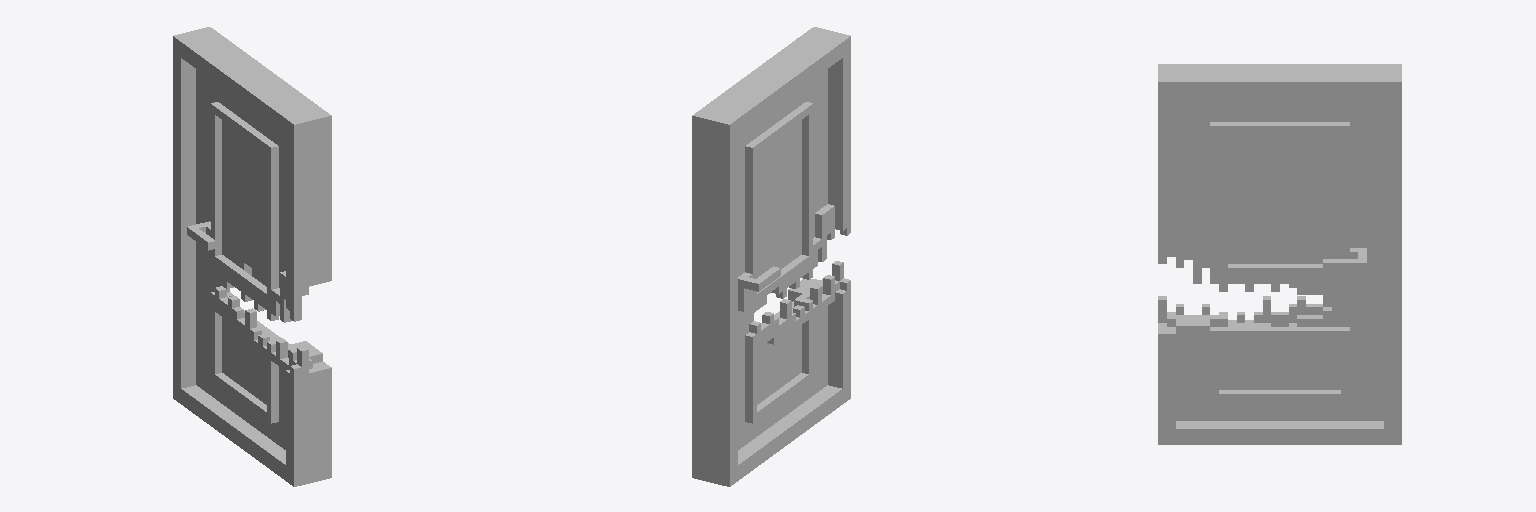
Rendered from DOOR MONSTER (DUR).obj.
The picture shows the model from 3 angles: view 1: azimuth 30°, elevation 25°; view 2: azimuth 150°, elevation 25°; view 3: azimuth 270°, elevation 25°; orthographic projection.
Visible parts, largest first — view 1: object 1; view 2: object 1; view 3: object 1.
Boxes of the visible parts, x1=… form: object 1: x1=173, y1=27, x2=331, y2=486; object 1: x1=692, y1=27, x2=850, y2=486; object 1: x1=1158, y1=64, x2=1401, y2=444.
Size of the model in its own units: 0.8 by 4.6 by 2.8.